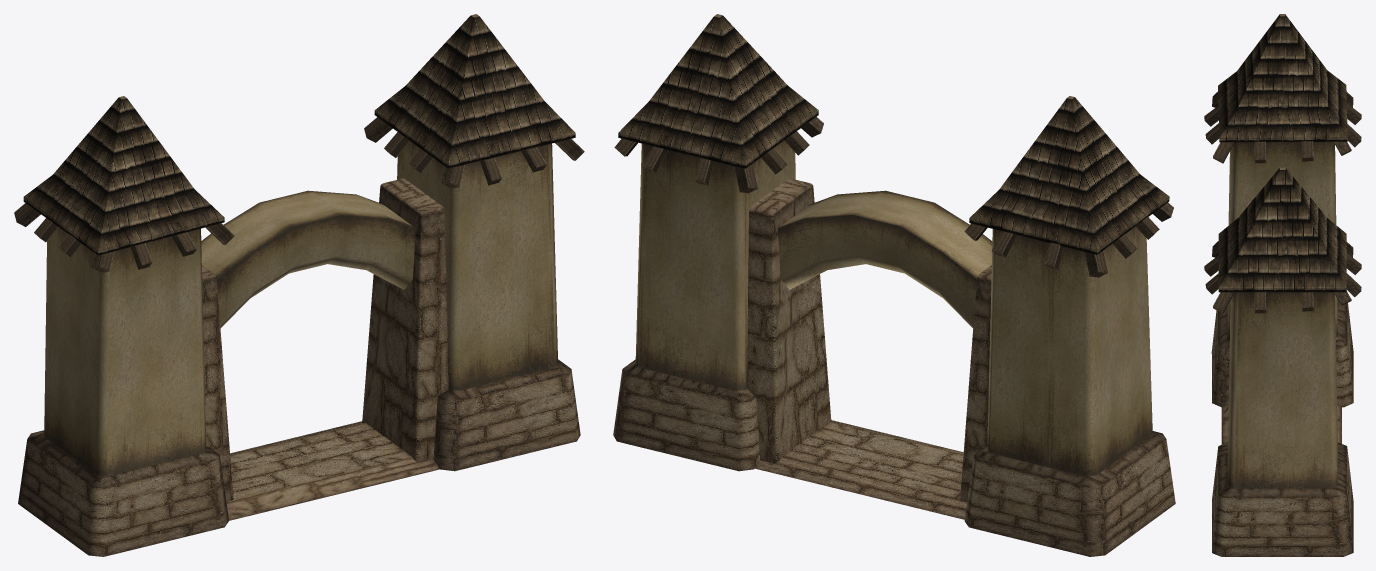
The model's file is Gate_01.fbx.
The picture shows the model from 3 angles, left to right: view 1: azimuth 30°, elevation 25°; view 2: azimuth 150°, elevation 25°; view 3: azimuth 270°, elevation 25°; orthographic projection. The views are drawn at different scales.
Parts seen in each view (by area): view 1: Gate_Part_03, Gate_Part_02, Gate_Part_01, Gate_Part_04; view 2: Gate_Part_03, Gate_Part_02, Gate_Part_01, Gate_Part_04; view 3: Gate_Part_02, Gate_Part_03, Gate_Part_04.
Boxes of the visible parts, x1=… form: Gate_Part_03: x1=14, y1=96, x2=234, y2=556; Gate_Part_02: x1=362, y1=14, x2=584, y2=471; Gate_Part_01: x1=201, y1=190, x2=415, y2=328; Gate_Part_04: x1=226, y1=421, x2=439, y2=520; Gate_Part_03: x1=960, y1=96, x2=1175, y2=556; Gate_Part_02: x1=613, y1=14, x2=831, y2=471; Gate_Part_01: x1=778, y1=190, x2=992, y2=328; Gate_Part_04: x1=755, y1=420, x2=966, y2=519; Gate_Part_02: x1=1204, y1=167, x2=1361, y2=556; Gate_Part_03: x1=1204, y1=14, x2=1361, y2=407; Gate_Part_04: x1=1221, y1=404, x2=1341, y2=444.
Bounding box in the file's own units: 14.35 × 11.27 × 4.44.
